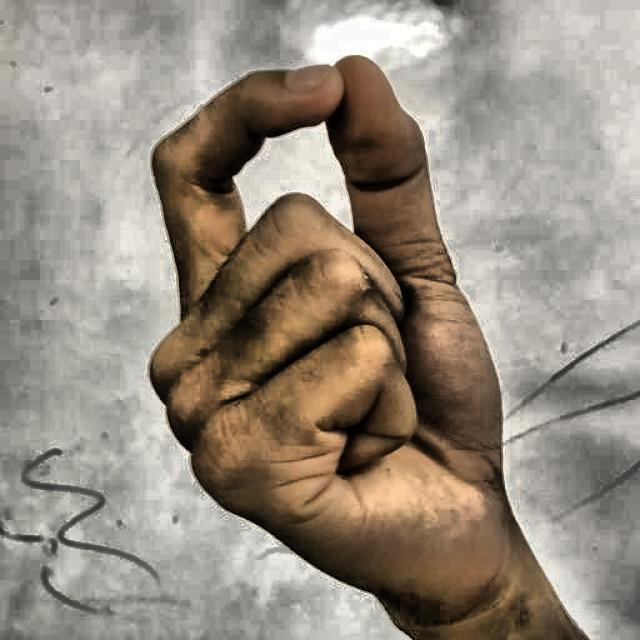Gha: (110, 35, 586, 640)
